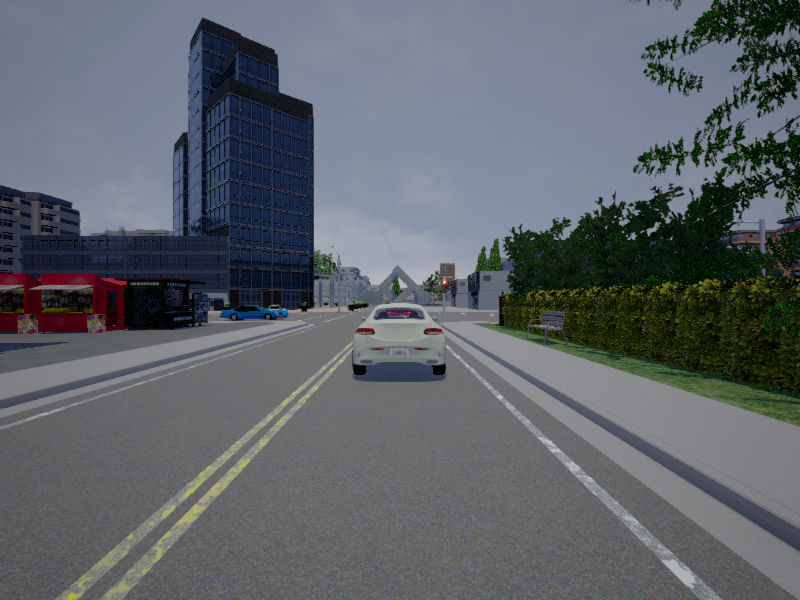Benign: (354, 305, 445, 376), (220, 303, 286, 321)
